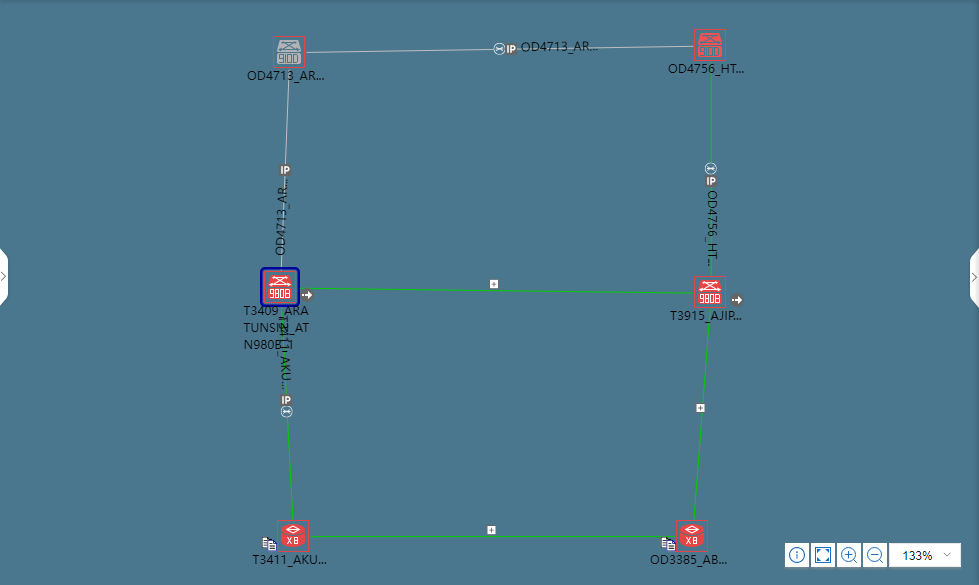ATN_Gray: (278, 39, 301, 68)
ATN_Red: (266, 271, 294, 306), (694, 277, 724, 306), (694, 32, 722, 62)
Link_Gray: (278, 69, 295, 251), (327, 45, 583, 52)
Link_Green: (327, 283, 693, 300), (688, 308, 717, 517), (278, 308, 294, 517)
Router_Red: (676, 522, 705, 549), (278, 522, 306, 549)
